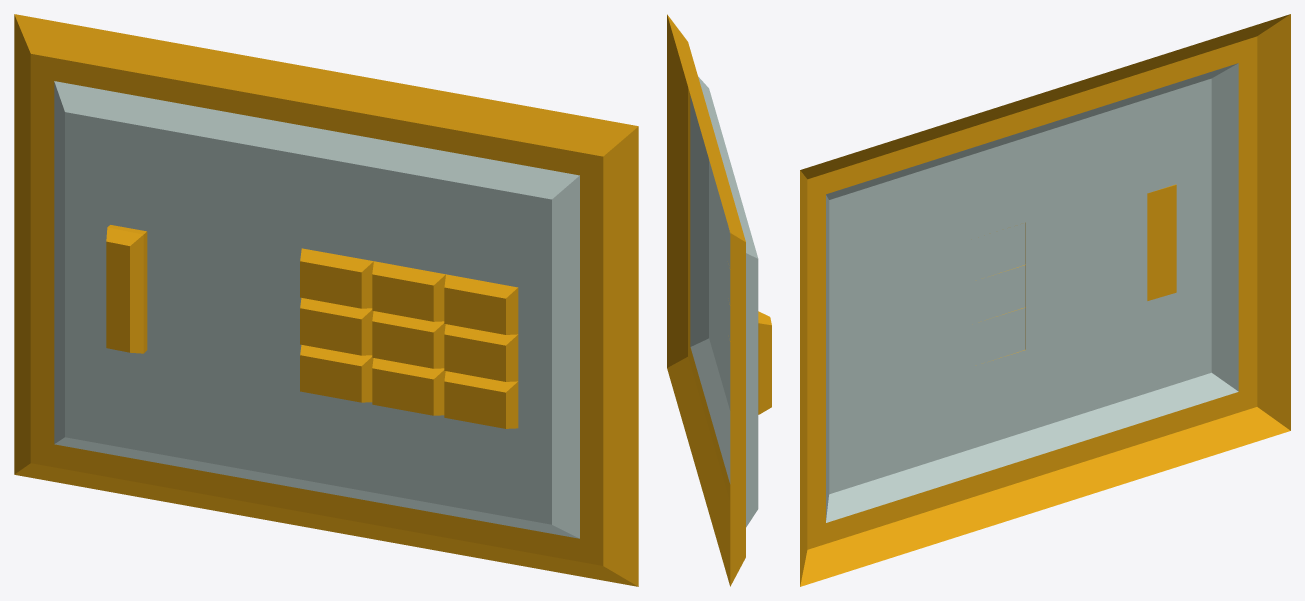
File: cofre.glb
3 renders of one model, left to right at view 1: azimuth 30°, elevation 25°; view 2: azimuth 150°, elevation 25°; view 3: azimuth 270°, elevation 25°, orthographic. The views are drawn at different scales.
Visible parts, largest first — view 1: cofre; view 2: cofre; view 3: cofre.
Boxes of the visible parts, x1,y1,x2,y2 form: cofre: [14, 14, 638, 586]; cofre: [667, 14, 771, 586]; cofre: [800, 14, 1290, 586].
Size of the model in its own units: 0.7848 by 0.9721 by 1.04.
